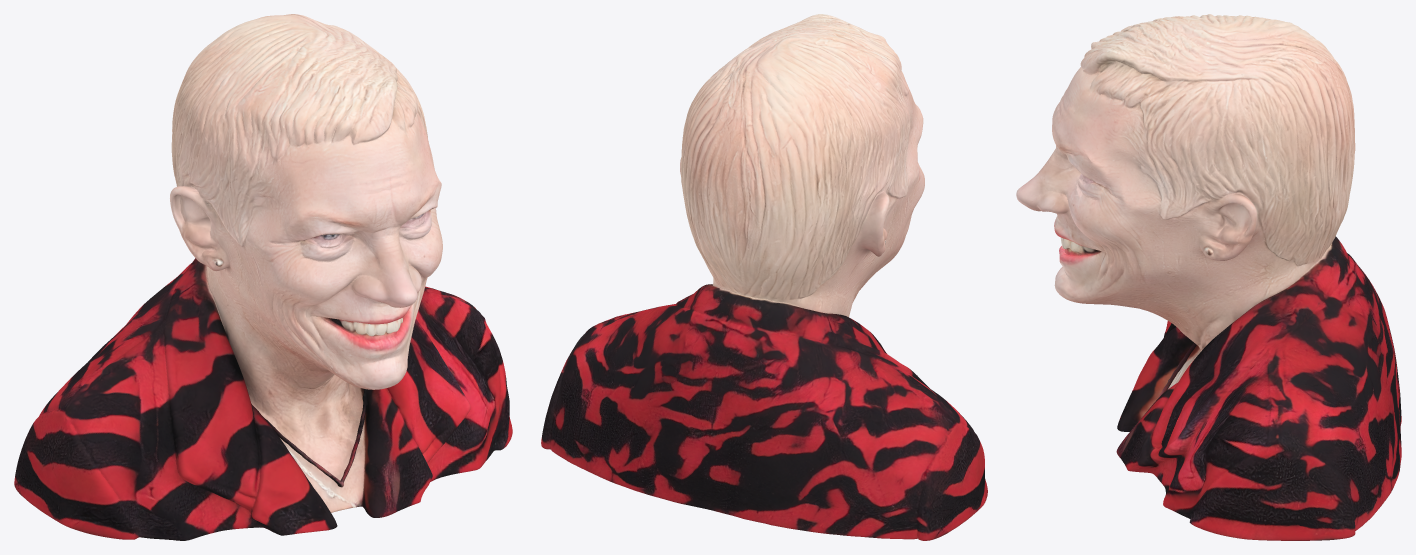
The model's file is step2.glb.
The picture shows the model from 3 angles, left to right: view 1: azimuth 30°, elevation 25°; view 2: azimuth 150°, elevation 25°; view 3: azimuth 270°, elevation 25°; orthographic projection. The views are drawn at different scales.
Visible parts, largest first — view 1: model; view 2: model; view 3: model.
Part boxes in pixels (box(x1,y1,x2,y2)): model: box(14, 14, 512, 540); model: box(541, 14, 987, 540); model: box(1016, 14, 1401, 540).
Bounding box in the file's own units: 1.79 × 1.71 × 1.43.
1 material, 1 textured.
